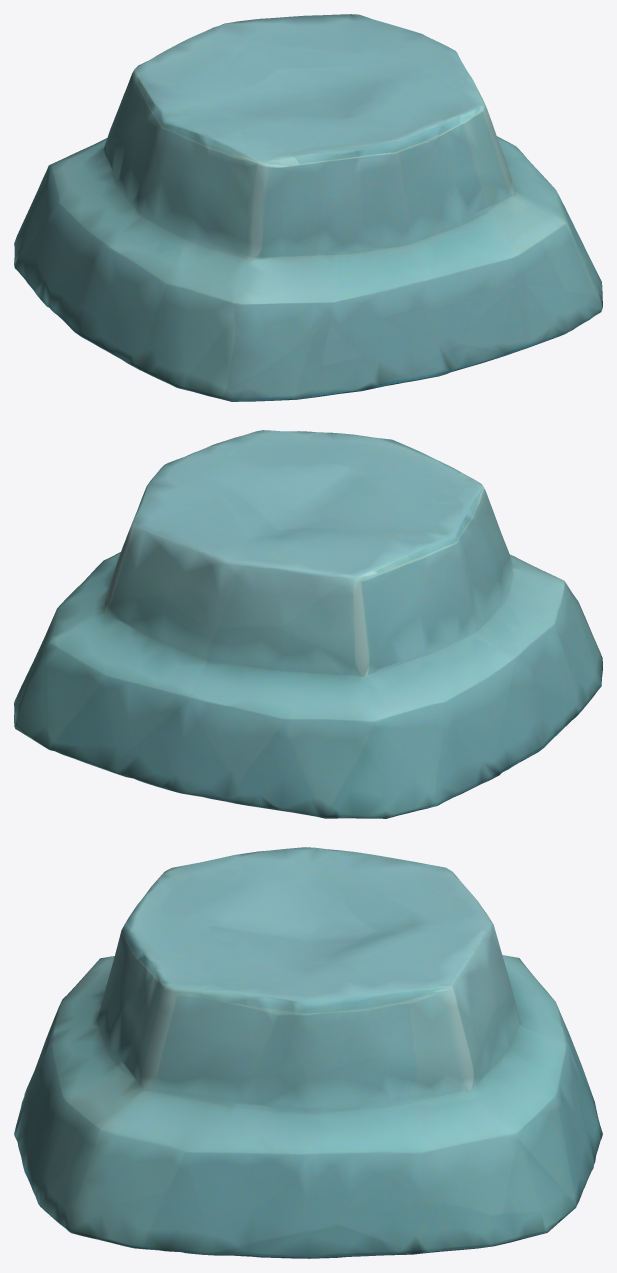
Rendered from Geometric_Blue_Hat_1214000043_texture.fbx.
The picture shows the model from 3 angles, top to bottom: view 1: azimuth 30°, elevation 25°; view 2: azimuth 150°, elevation 25°; view 3: azimuth 270°, elevation 25°; orthographic projection. The views are drawn at different scales.
Parts seen in each view (by area): view 1: Mesh_0; view 2: Mesh_0; view 3: Mesh_0.
Boxes of the visible parts, box(x1,y1,x2,y2) form: Mesh_0: box(14, 14, 602, 401); Mesh_0: box(14, 430, 602, 818); Mesh_0: box(14, 847, 602, 1258).
Size of the model in its own units: 199 by 79.59 by 199.
Materials: 1 (1 with a texture image).
